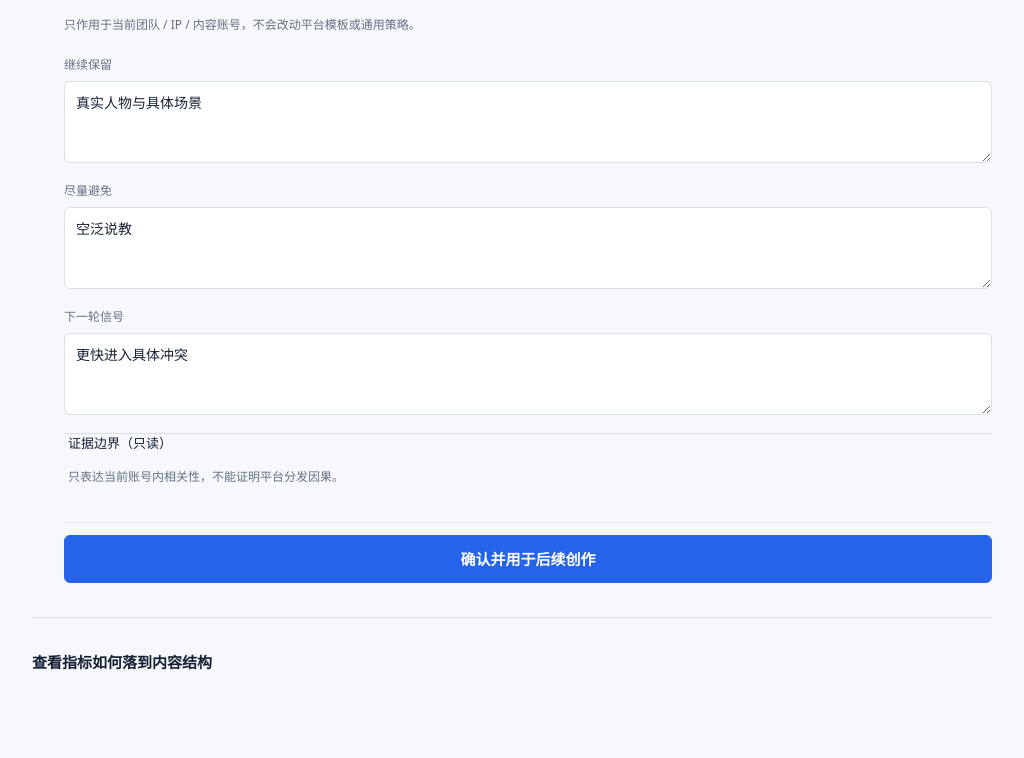
Test: 结果优先的真实复盘工作区 › 记忆确认失败时保留页面并显示可读错误
(page scrolled)
Click the button "确认并用于后续创作": (528, 559) [64,535,992,583]
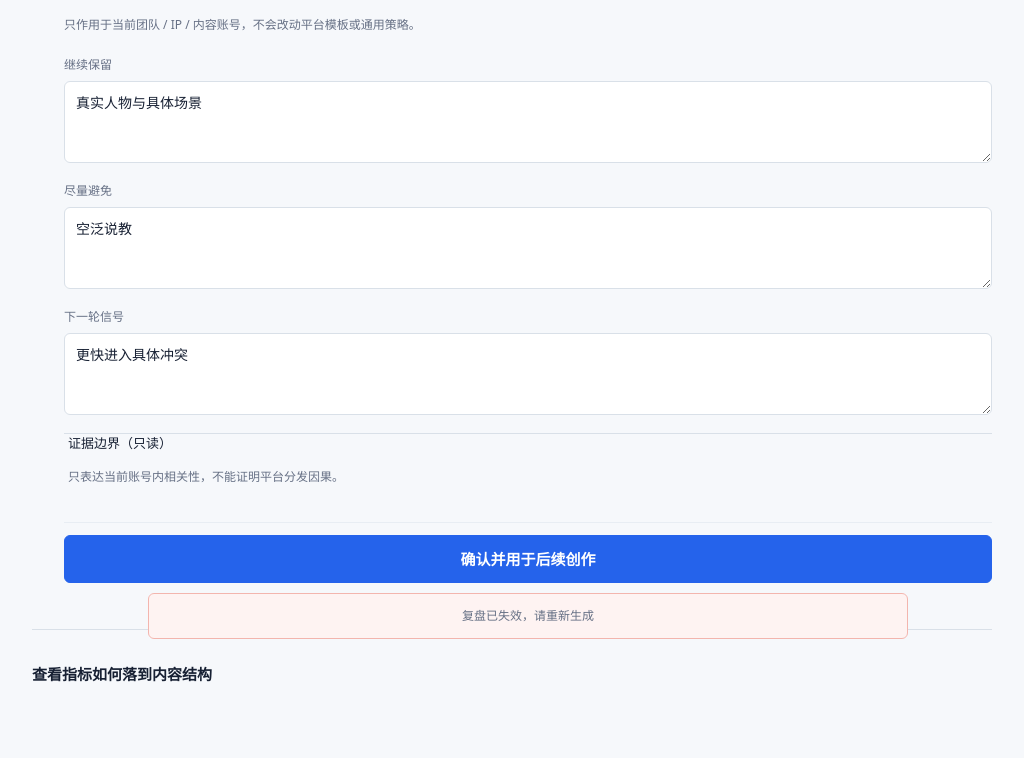
Check: the text box labelled "继续保留" holds "真实人物与具体场景", box [64,81,992,163]
Check: the message reads "复盘已失效，请重新生成", box [462,607,594,624]
